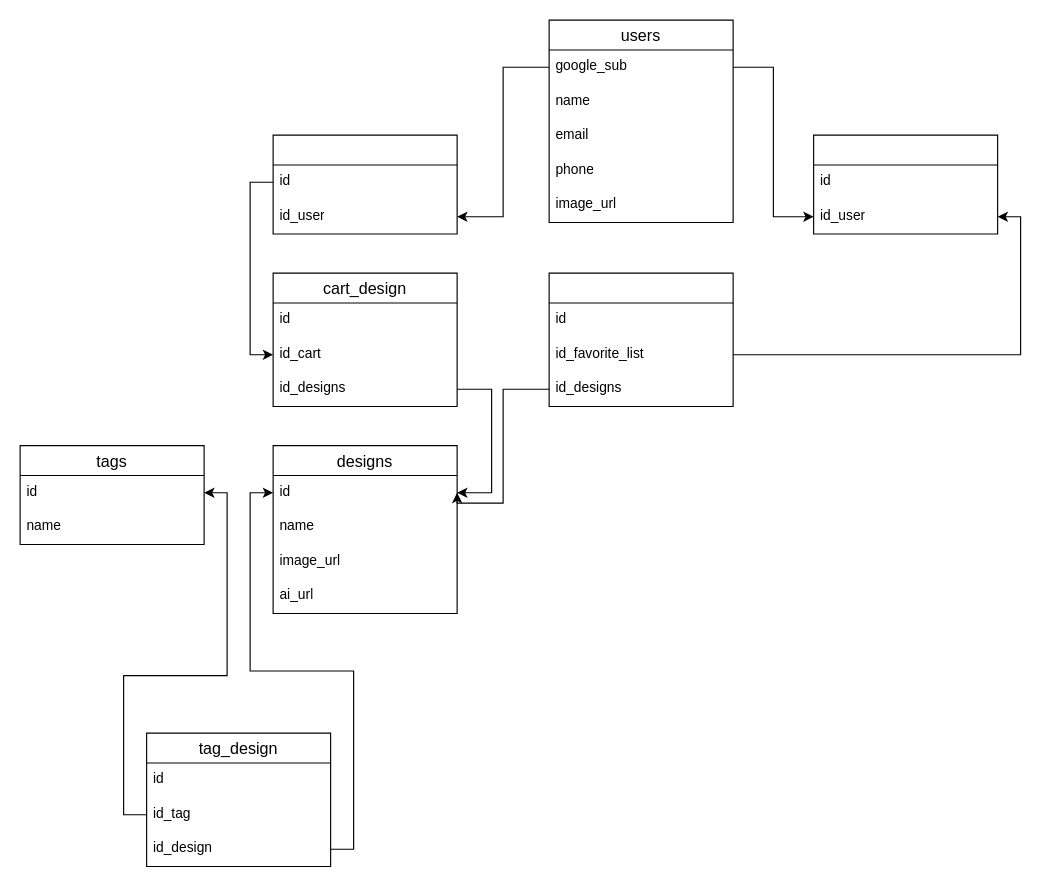
The diagram is 1050 pixels wide and 890 high, and some of its shapes have lost their labels. Here are the shapes that lost their labels. From the top down, the box of each, then its label:
(272, 134, 457, 234): carts
(812, 134, 998, 234): favorite_lists
(548, 272, 733, 407): favorite_list_design
